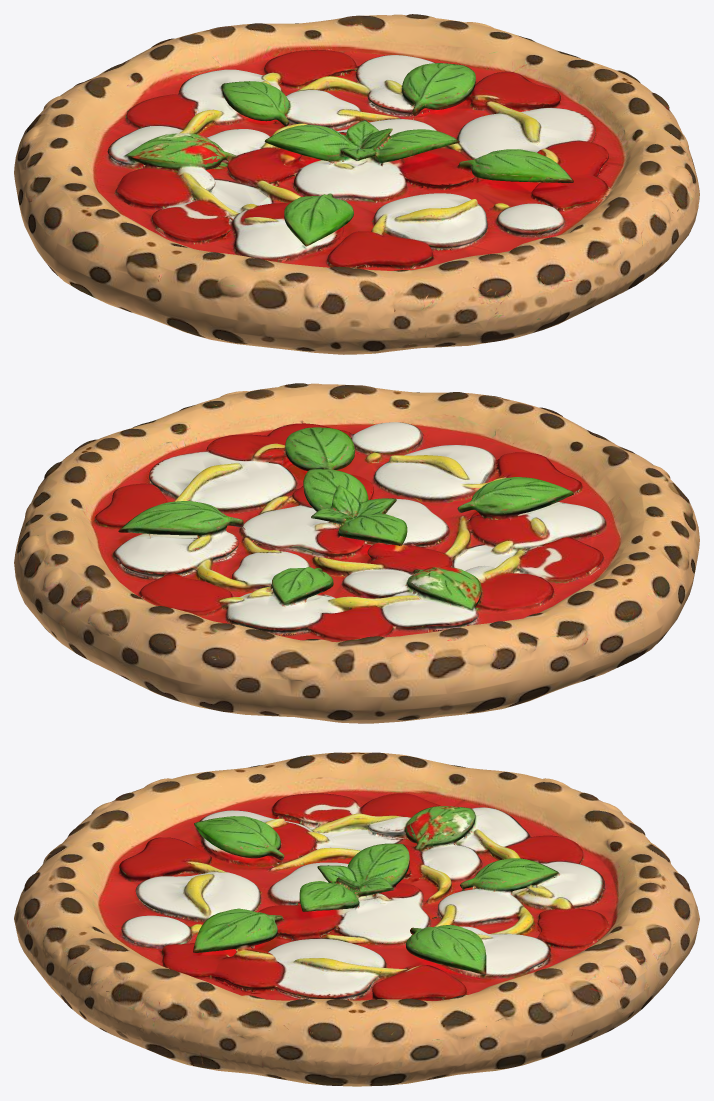
Rendered from pizza_meshy6.glb.
3 views of the same model, one above another, from view 1: azimuth 30°, elevation 25°; view 2: azimuth 150°, elevation 25°; view 3: azimuth 270°, elevation 25° (orthographic). The views are drawn at different scales.
Visible parts, largest first — view 1: Mesh1.0; view 2: Mesh1.0; view 3: Mesh1.0.
Part boxes in pixels (x1,y1,x2,y2): Mesh1.0: (14,14,699,354); Mesh1.0: (14,383,699,723); Mesh1.0: (14,752,699,1086).
Bounding box in the file's own units: 1.91 × 0.2871 × 1.91.
Materials: 1 (1 with a texture image).
